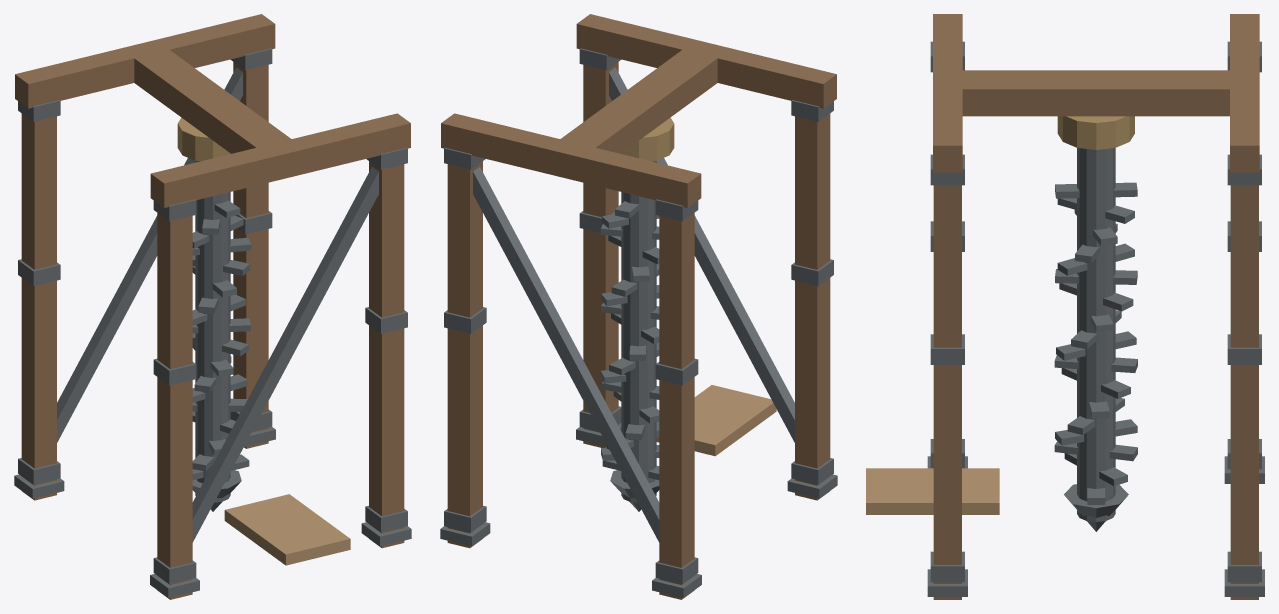
File: vf_deep_extractor.glb
3 views of the same model, side by side, from view 1: azimuth 30°, elevation 25°; view 2: azimuth 150°, elevation 25°; view 3: azimuth 270°, elevation 25° (orthographic). The views are drawn at different scales.
Parts seen in each view (by area): view 1: Static_Oak, Static_Iron, Drill_Iron, Static_OakLight, Static_Bronze; view 2: Static_Oak, Static_Iron, Drill_Iron, Static_OakLight, Static_Bronze; view 3: Static_Oak, Drill_Iron, Static_Iron, Static_OakLight, Static_Bronze.
Part boxes in pixels (left/top/right/bottom): Static_Oak: left=15, top=14, right=410, bottom=599; Static_Iron: left=14, top=48, right=411, bottom=597; Drill_Iron: left=192, top=161, right=251, bottom=511; Static_OakLight: left=224, top=494, right=350, bottom=565; Static_Bronze: left=177, top=117, right=230, bottom=161; Static_Oak: left=441, top=14, right=836, bottom=599; Static_Iron: left=440, top=48, right=837, bottom=597; Drill_Iron: left=600, top=161, right=659, bottom=511; Static_OakLight: left=656, top=385, right=776, bottom=456; Static_Bronze: left=621, top=117, right=674, bottom=161; Static_Oak: left=933, top=14, right=1259, bottom=599; Drill_Iron: left=1054, top=148, right=1137, bottom=531; Static_Iron: left=927, top=41, right=1264, bottom=596; Static_OakLight: left=866, top=468, right=999, bottom=514; Static_Bronze: left=1057, top=116, right=1134, bottom=149.
Size of the model in its own units: 2.1 by 3.4 by 2.68.
